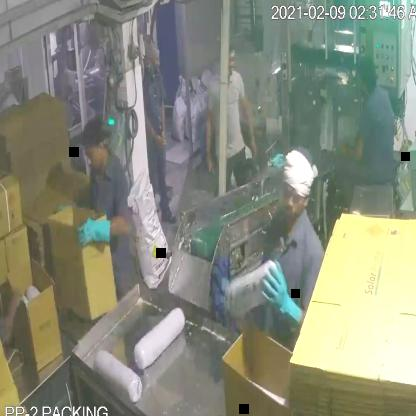glove: (251, 255, 313, 328), (72, 216, 118, 249)
no_glove: (328, 113, 374, 170), (235, 80, 264, 168), (0, 276, 26, 359), (200, 104, 222, 181), (141, 111, 165, 149), (156, 95, 172, 144)
